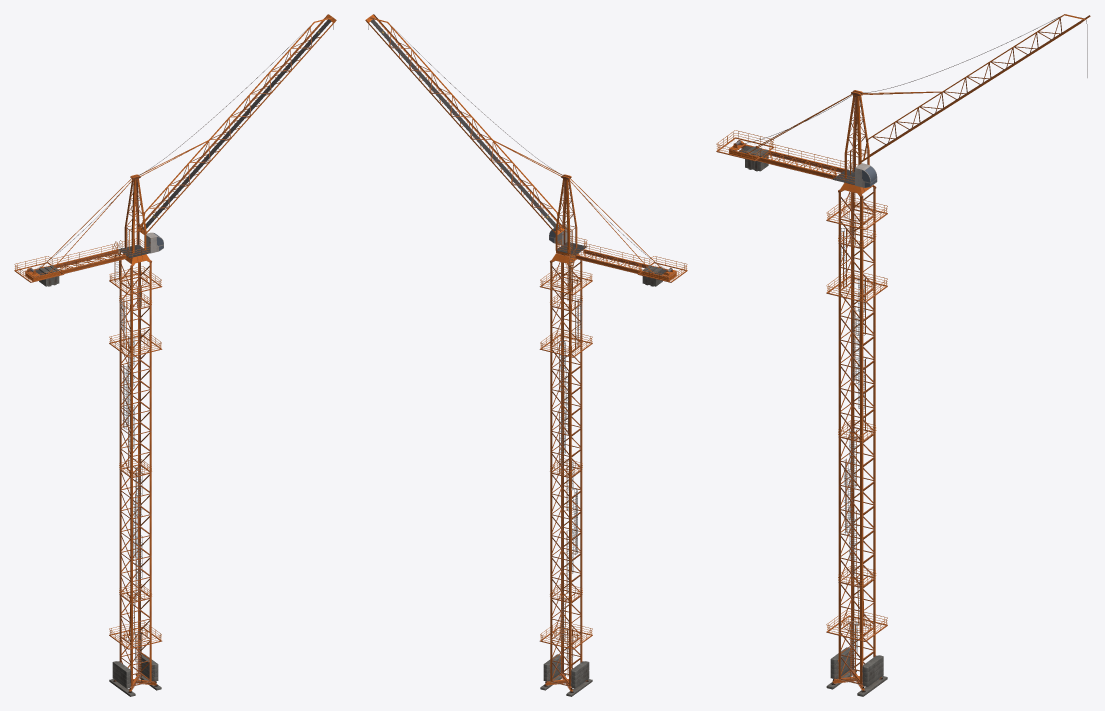
The model's file is Crane_02.fbx.
3 views of the same model, side by side, from view 1: azimuth 30°, elevation 25°; view 2: azimuth 150°, elevation 25°; view 3: azimuth 330°, elevation 25° (orthographic). The views are drawn at different scales.
Visible parts, largest first — view 1: Crane_Leg_Section.003, Crane_Front_Arm_Section.002, Crane_Base.002, Crane_Head.002, Ladder_Section.013, Crane_Back_Arm_Section.002, Crane_Leg_Section_Open.003, Crane_Leg_Section_Open.005, Crane_Leg_Section_Open.004, Platform_02.001, Platform_04.003, Platform_03.002 (+2 smaller); view 2: Crane_Leg_Section.003, Crane_Front_Arm_Section.002, Crane_Base.002, Ladder_Section.013, Crane_Head.002, Crane_Back_Arm_Section.002, Crane_Leg_Section_Open.003, Crane_Leg_Section_Open.004, Crane_Leg_Section_Open.005, Platform_03.002, Platform_04.003, Platform_02.001 (+2 smaller); view 3: Crane_Leg_Section.003, Crane_Base.002, Ladder_Section.013, Crane_Head.002, Crane_Front_Arm_Section.002, Crane_Back_Arm_Section.002, Crane_Leg_Section_Open.004, Crane_Leg_Section_Open.005, Crane_Leg_Section_Open.003, Platform_02.001, Platform_04.003, Platform_03.002 (+2 smaller).
Boxes of the visible parts, x1,y1,x2,y2 form: Crane_Leg_Section.003: (119,340,151,602); Crane_Front_Arm_Section.002: (148,26,321,218); Crane_Base.002: (109,632,161,696); Crane_Head.002: (118,174,163,257); Ladder_Section.013: (122,335,142,598); Crane_Back_Arm_Section.002: (52,243,126,274); Crane_Leg_Section_Open.003: (119,590,151,644); Crane_Leg_Section_Open.005: (119,260,151,310); Crane_Leg_Section_Open.004: (119,298,151,352); Platform_02.001: (109,329,162,357); Platform_04.003: (109,621,162,649); Platform_03.002: (109,266,162,295); Crane_Leg_Section.003: (550,340,582,602); Crane_Front_Arm_Section.002: (380,26,553,218); Crane_Base.002: (540,632,592,696); Ladder_Section.013: (558,340,577,593); Crane_Head.002: (549,174,587,255); Crane_Back_Arm_Section.002: (575,243,649,274); Crane_Leg_Section_Open.003: (550,590,582,644); Crane_Leg_Section_Open.004: (550,298,582,352); Crane_Leg_Section_Open.005: (550,260,582,310); Platform_03.002: (539,266,592,295); Platform_04.003: (539,622,592,649); Platform_02.001: (539,330,592,357); Crane_Leg_Section.003: (838,282,875,587); Crane_Base.002: (826,622,887,696); Ladder_Section.013: (843,277,866,582); Crane_Head.002: (832,90,877,187); Crane_Front_Arm_Section.002: (871,17,1072,152); Crane_Back_Arm_Section.002: (760,143,844,179); Crane_Leg_Section_Open.004: (838,234,875,296); Crane_Leg_Section_Open.005: (838,190,875,248); Crane_Leg_Section_Open.003: (838,573,875,635); Platform_02.001: (826,271,887,302); Platform_04.003: (826,609,887,641); Platform_03.002: (826,196,887,230).
Size of the model in its own units: 4692 by 545 by 8932.
